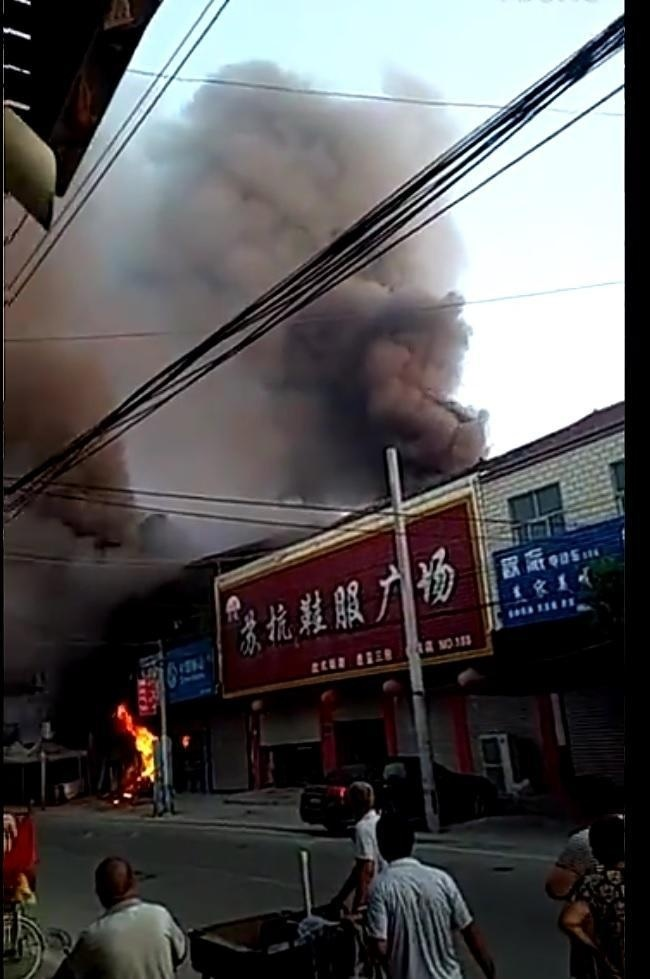fire: (111, 697, 161, 788)
